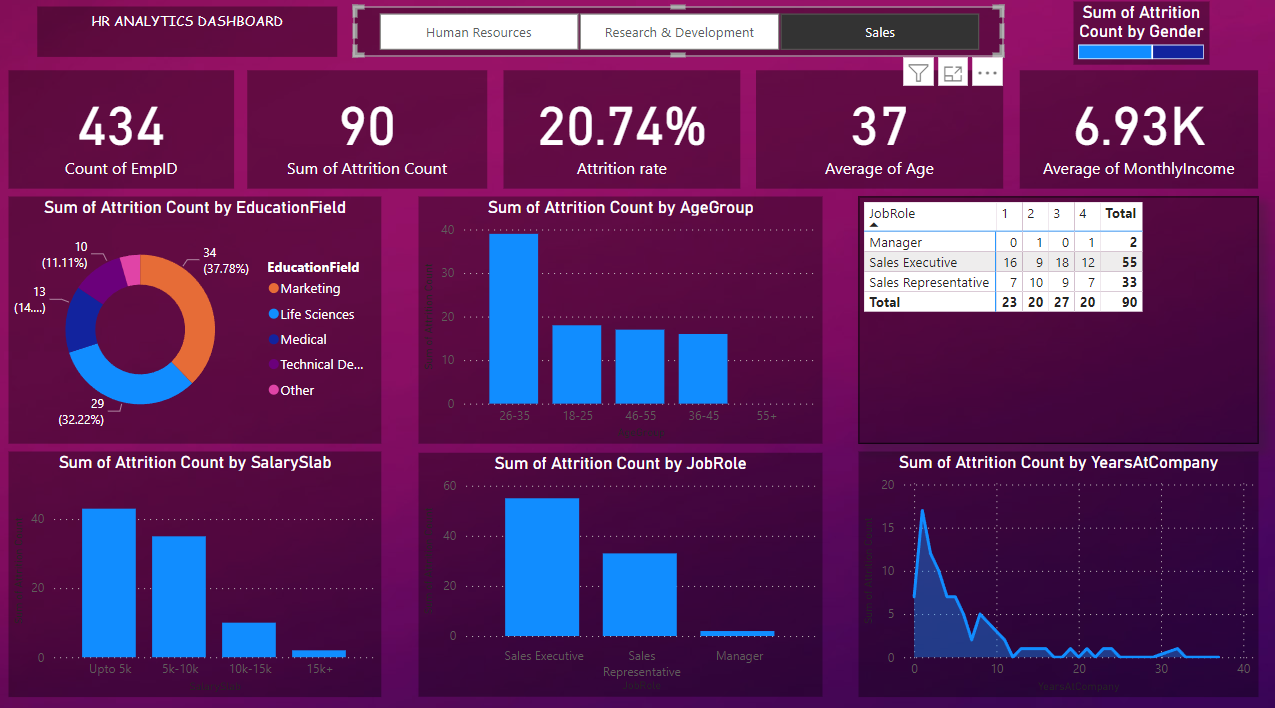

This screenshot's page, from the dashboard's own definition file:
{"tool":"powerbi","page":{"name":"Page 1","canvas":[1280,720],"ordinal":0},"visuals":[{"type":"card","fields":{"Values":["CountNonNull(HR_Analytics (1).EmpID)"]},"box":[12.9,75.7,225.7,118.6],"z":0},{"type":"card","fields":{"Values":["Sum(HR_Analytics (1).Custom)"]},"box":[251.4,75.7,240,118.6],"z":1000},{"type":"card","fields":{"Values":["Avg(HR_Analytics (1).Age)"]},"box":[760,75.7,247.1,118.6],"z":2000},{"type":"card","fields":{"Values":["HR_Analytics (1).Attrition rate"]},"box":[507.1,75.7,237.1,118.6],"z":3000},{"type":"card","fields":{"Values":["Avg(HR_Analytics (1).MonthlyIncome)"]},"box":[1024.3,75.7,238.6,118.6],"z":4000},{"type":"donutChart","fields":{"Category":["HR_Analytics (1).EducationField"],"Y":["Sum(HR_Analytics (1).Attrition Count)"]},"box":[12.9,202.9,372.9,247.1],"z":5000},{"type":"columnChart","fields":{"Y":["Sum(HR_Analytics (1).Attrition Count)"],"Category":["HR_Analytics (1).SalarySlab"]},"box":[12.9,457.1,372.9,245.7],"z":6000},{"type":"pivotTable","fields":{"Rows":["HR_Analytics (1).JobRole"],"Columns":["HR_Analytics (1).JobSatisfaction"],"Values":["Sum(HR_Analytics (1).Attrition Count)"]},"box":[862.9,202.9,400,247.1],"z":7000},{"type":"columnChart","fields":{"Category":["HR_Analytics (1).AgeGroup"],"Y":["Sum(HR_Analytics (1).Attrition Count)"]},"box":[422.9,202.9,404.3,247.1],"z":8000},{"type":"areaChart","fields":{"Category":["HR_Analytics (1).YearsAtCompany"],"Y":["Sum(HR_Analytics (1).Attrition Count)"]},"box":[862.9,457.1,400,245.7],"z":9000},{"type":"columnChart","fields":{"Category":["HR_Analytics (1).JobRole"],"Y":["Sum(HR_Analytics (1).Attrition Count)"]},"box":[422.9,458.6,404.3,244.3],"z":10000},{"type":"treemap","fields":{"Values":["Sum(HR_Analytics (1).Attrition Count)"],"Group":["HR_Analytics (1).Gender"]},"box":[1077.1,7.1,135.7,62.9],"z":12000},{"type":"slicer","fields":{"Values":["HR_Analytics (1).Department"]},"box":[357.1,12.9,650,50],"z":13000},{"type":"textbox","box":[41.4,12.9,300,50],"z":14000}]}

Visuals, with their boxes in screenshot pixels (x1, y1, x2, y2), scaled from the page's 1280x720 canvas onto the 1275x708 screenshot:
card - CountNonNull(HR_Analytics (1).EmpID): {"left": 13, "top": 74, "right": 238, "bottom": 191}
card - Sum(HR_Analytics (1).Custom): {"left": 250, "top": 74, "right": 489, "bottom": 191}
card - Avg(HR_Analytics (1).Age): {"left": 757, "top": 74, "right": 1003, "bottom": 191}
card - HR_Analytics (1).Attrition rate: {"left": 505, "top": 74, "right": 741, "bottom": 191}
card - Avg(HR_Analytics (1).MonthlyIncome): {"left": 1020, "top": 74, "right": 1258, "bottom": 191}
donutChart - HR_Analytics (1).EducationField x Sum(HR_Analytics (1).Attrition Count): {"left": 13, "top": 200, "right": 384, "bottom": 442}
columnChart - Sum(HR_Analytics (1).Attrition Count) x HR_Analytics (1).SalarySlab: {"left": 13, "top": 449, "right": 384, "bottom": 691}
pivotTable - HR_Analytics (1).JobRole x HR_Analytics (1).JobSatisfaction: {"left": 860, "top": 200, "right": 1258, "bottom": 442}
columnChart - HR_Analytics (1).AgeGroup x Sum(HR_Analytics (1).Attrition Count): {"left": 421, "top": 200, "right": 824, "bottom": 442}
areaChart - HR_Analytics (1).YearsAtCompany x Sum(HR_Analytics (1).Attrition Count): {"left": 860, "top": 449, "right": 1258, "bottom": 691}
columnChart - HR_Analytics (1).JobRole x Sum(HR_Analytics (1).Attrition Count): {"left": 421, "top": 451, "right": 824, "bottom": 691}
treemap - Sum(HR_Analytics (1).Attrition Count) x HR_Analytics (1).Gender: {"left": 1073, "top": 7, "right": 1208, "bottom": 69}
slicer - HR_Analytics (1).Department: {"left": 356, "top": 13, "right": 1003, "bottom": 62}
textbox: {"left": 41, "top": 13, "right": 340, "bottom": 62}
